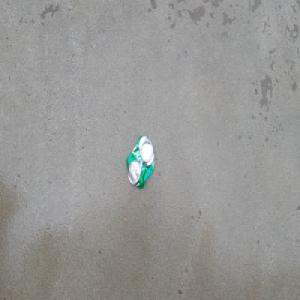SodaCan: (125, 133, 155, 189)
